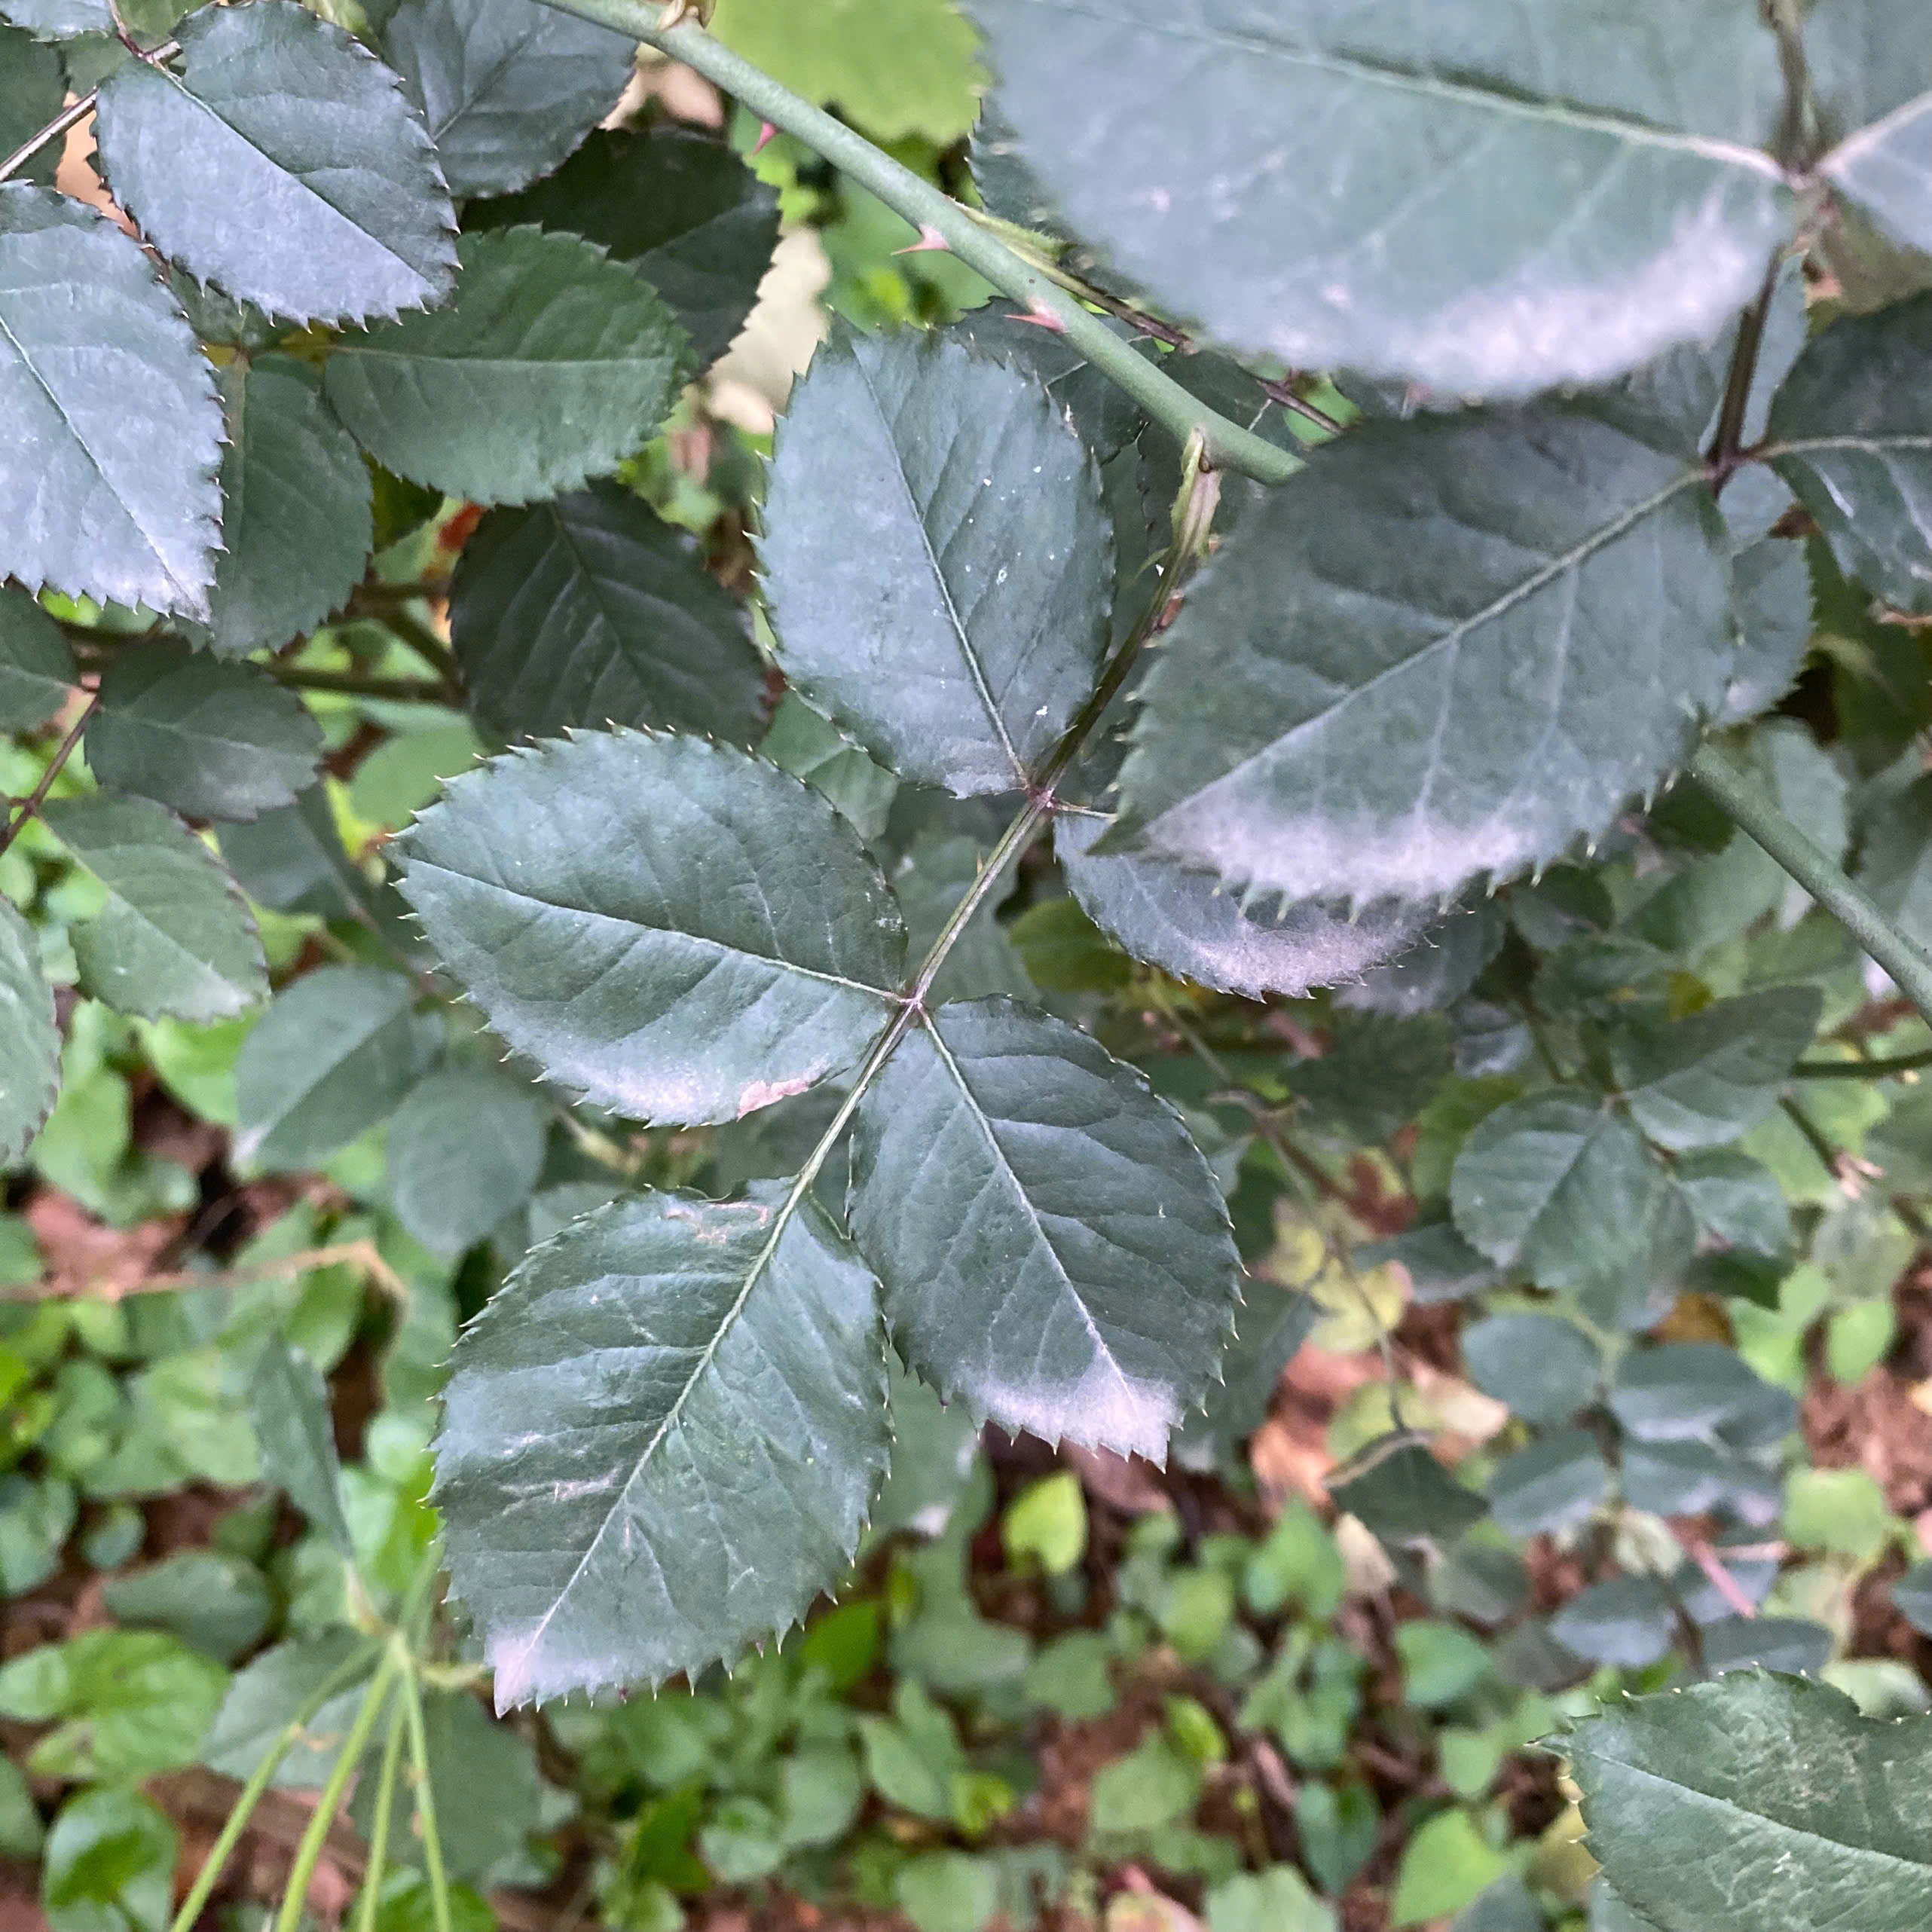hoa_thuoc_duoc: (338, 237, 1555, 1776)
